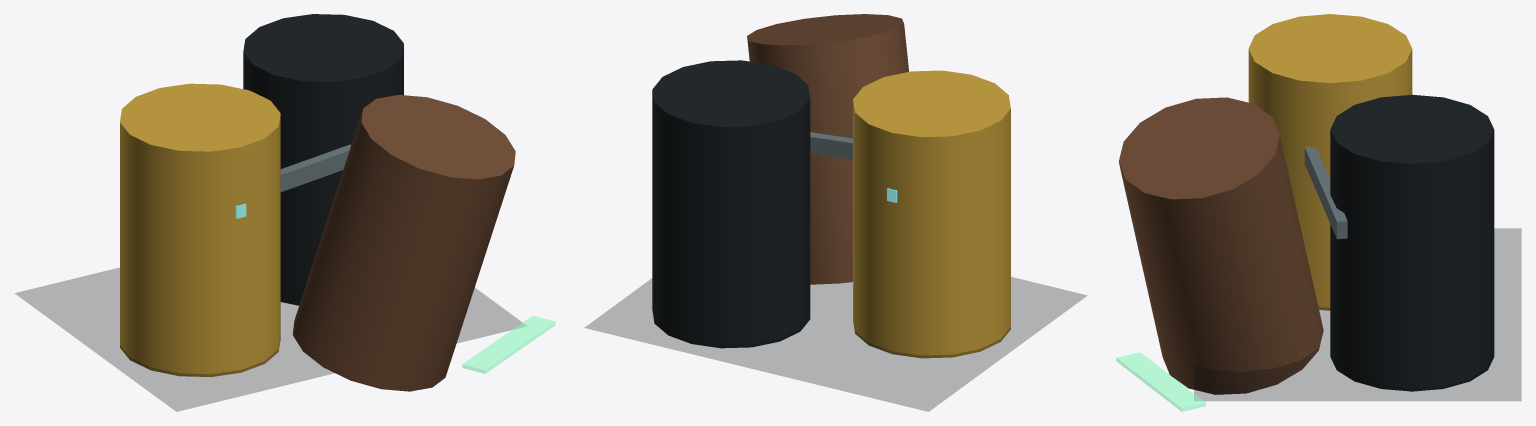
File: hp_room_rm_maint_coolant_drums.glb
3 renders of one model, left to right at view 1: azimuth 30°, elevation 25°; view 2: azimuth 150°, elevation 25°; view 3: azimuth 270°, elevation 25°, orthographic. The views are drawn at different scales.
Visible parts, largest first — view 1: drum_leaning, drum_a, drum_b, contact_shadow, leak_glow, strap_band; view 2: drum_b, drum_a, contact_shadow, drum_leaning, strap_band; view 3: drum_b, drum_leaning, drum_a, contact_shadow, leak_glow, strap_band.
Part boxes in pixels (x1,y1,x2,y2): drum_leaning: (292,95,515,391); drum_a: (120,83,280,376); drum_b: (243,14,403,305); contact_shadow: (15,268,521,411); leak_glow: (462,316,555,373); strap_band: (280,144,350,192); drum_b: (652,60,810,348); drum_a: (853,70,1010,358); contact_shadow: (585,277,1086,411); drum_leaning: (747,14,908,284); strap_band: (810,132,852,159); drum_b: (1330,94,1494,391); drum_leaning: (1118,97,1323,394); drum_a: (1248,14,1412,310); contact_shadow: (1194,228,1521,400); leak_glow: (1116,352,1205,411); strap_band: (1304,146,1347,239).
Size of the model in its own units: 1.59 by 1.05 by 1.48.
